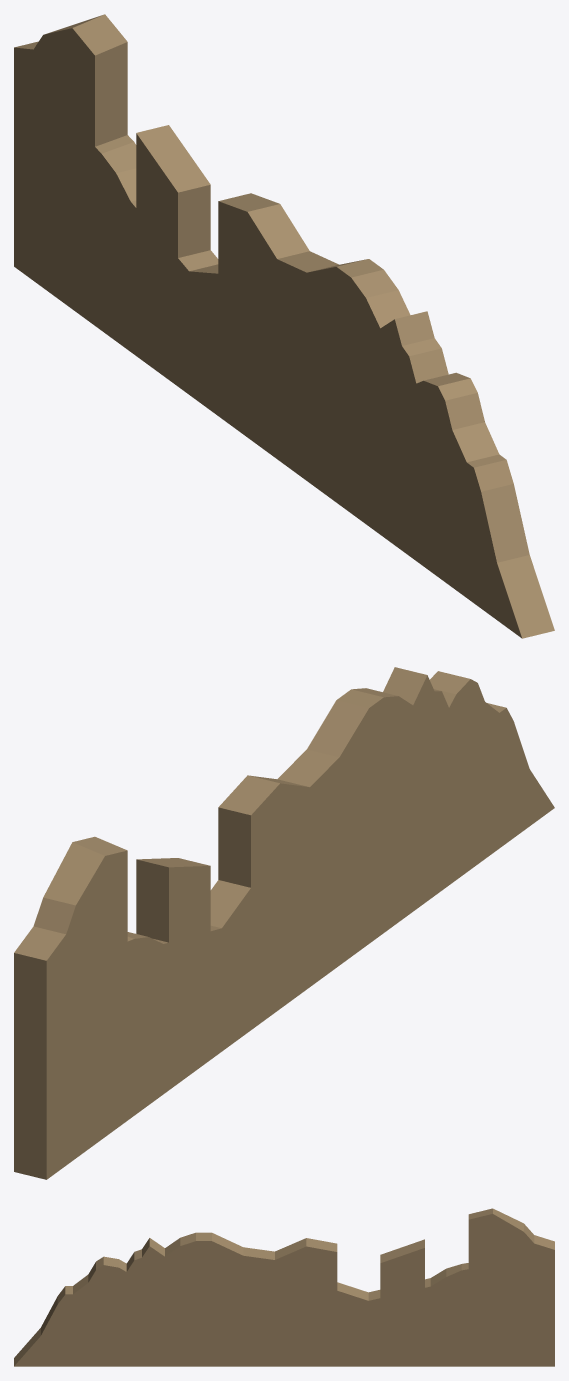
3 views of the same model, one above another, from view 1: azimuth 30°, elevation 25°; view 2: azimuth 150°, elevation 25°; view 3: azimuth 270°, elevation 25° (orthographic). The views are drawn at different scales.
Parts seen in each view (by area): view 1: Cube.052; view 2: Cube.052; view 3: Cube.052.
Boxes of the visible parts, bbox=[...] form: Cube.052: bbox=[14, 14, 554, 638]; Cube.052: bbox=[14, 667, 554, 1179]; Cube.052: bbox=[14, 1208, 554, 1366].
Bounding box in the file's own units: 0.2037 × 1.7 × 5.47.
